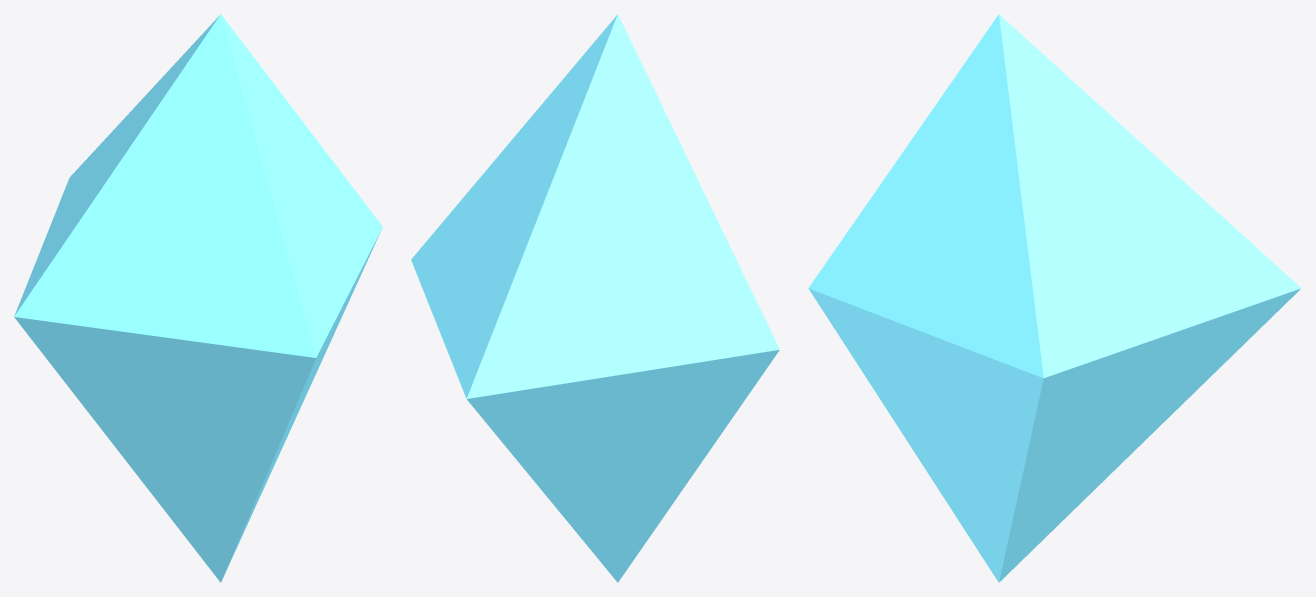
Rendered from spaktok-crystal.gltf.
The picture shows the model from 3 angles, left to right: view 1: azimuth 30°, elevation 25°; view 2: azimuth 150°, elevation 25°; view 3: azimuth 270°, elevation 25°; orthographic projection.
Visible parts, largest first — view 1: SpakTokCrystalHead; view 2: SpakTokCrystalHead; view 3: SpakTokCrystalHead.
Boxes of the visible parts, x1=… form: SpakTokCrystalHead: x1=14, y1=14, x2=382, y2=582; SpakTokCrystalHead: x1=411, y1=14, x2=779, y2=582; SpakTokCrystalHead: x1=808, y1=14, x2=1301, y2=582.
Bounding box in the file's own units: 0.38 × 0.56 × 0.44.
